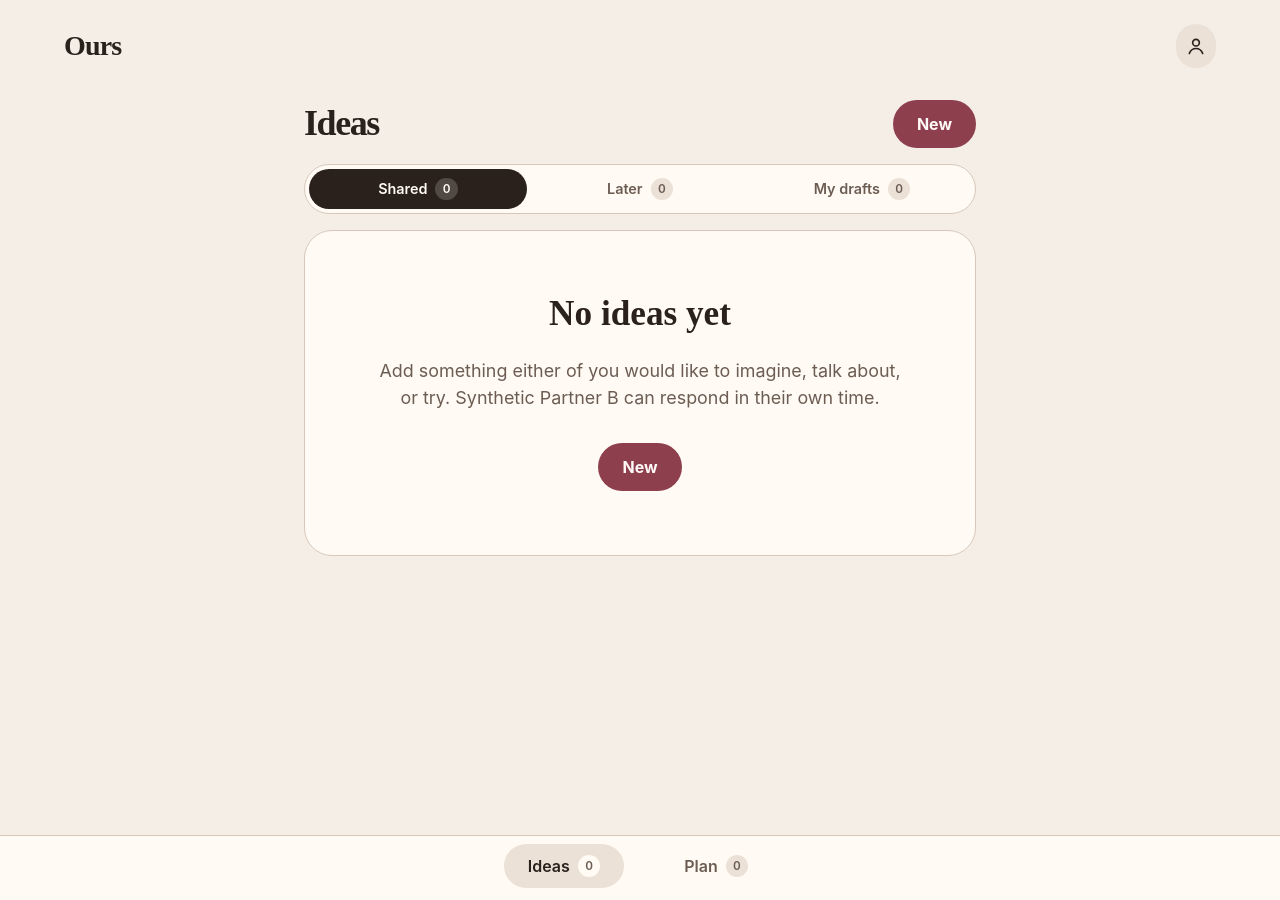
Test case: authenticated routes › keeps my name and Sign out in the account menu, not on every page
The width and height of the screenshot is (1280, 900).
Expected: the button "sign out" is not shown
Click the button named "Account".
click(1196, 46)  # box [1176, 24, 1216, 68]
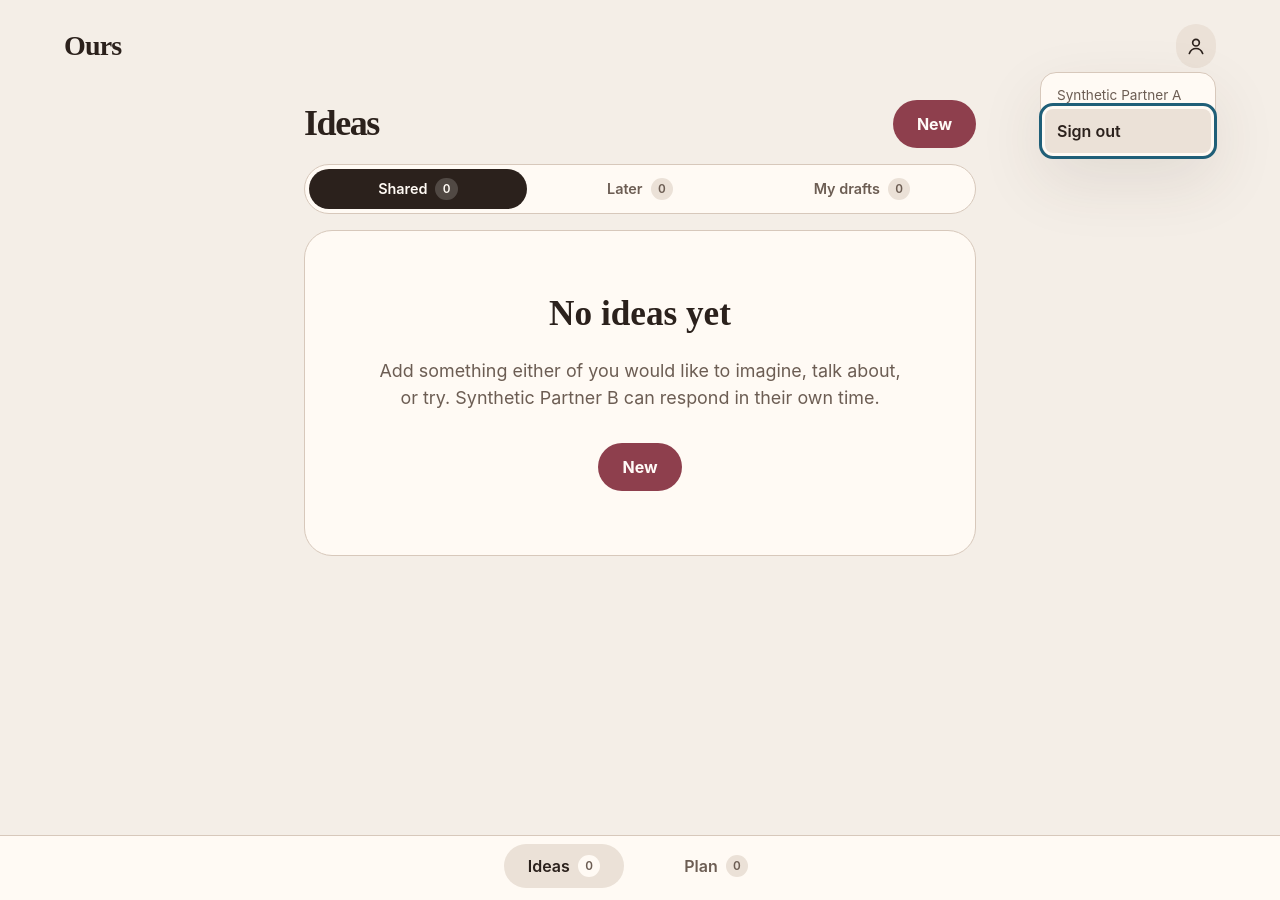
Now the text "Synthetic Partner A" is shown, box [1057, 87, 1182, 103]
Now the menu item "Sign out" is shown, box [1045, 109, 1211, 153]
